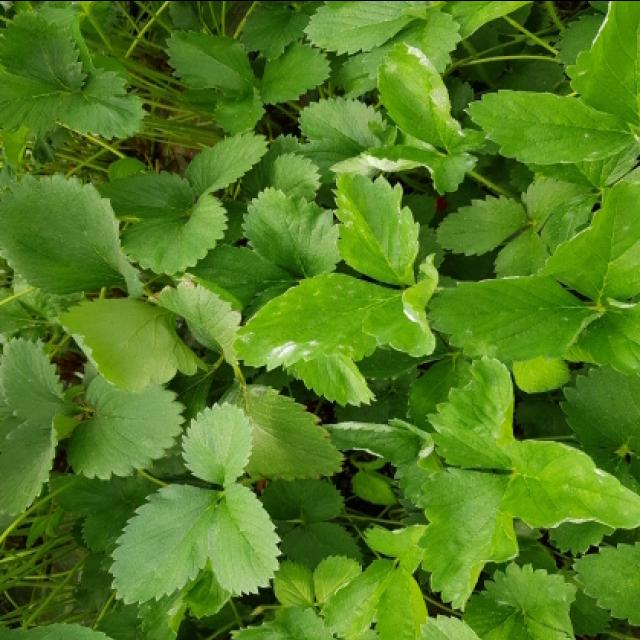Powdery Mildew Leaf: (230, 272, 406, 371), (217, 381, 346, 483), (499, 436, 638, 530), (376, 41, 487, 149), (361, 250, 441, 358), (319, 416, 441, 473), (358, 141, 482, 197)
